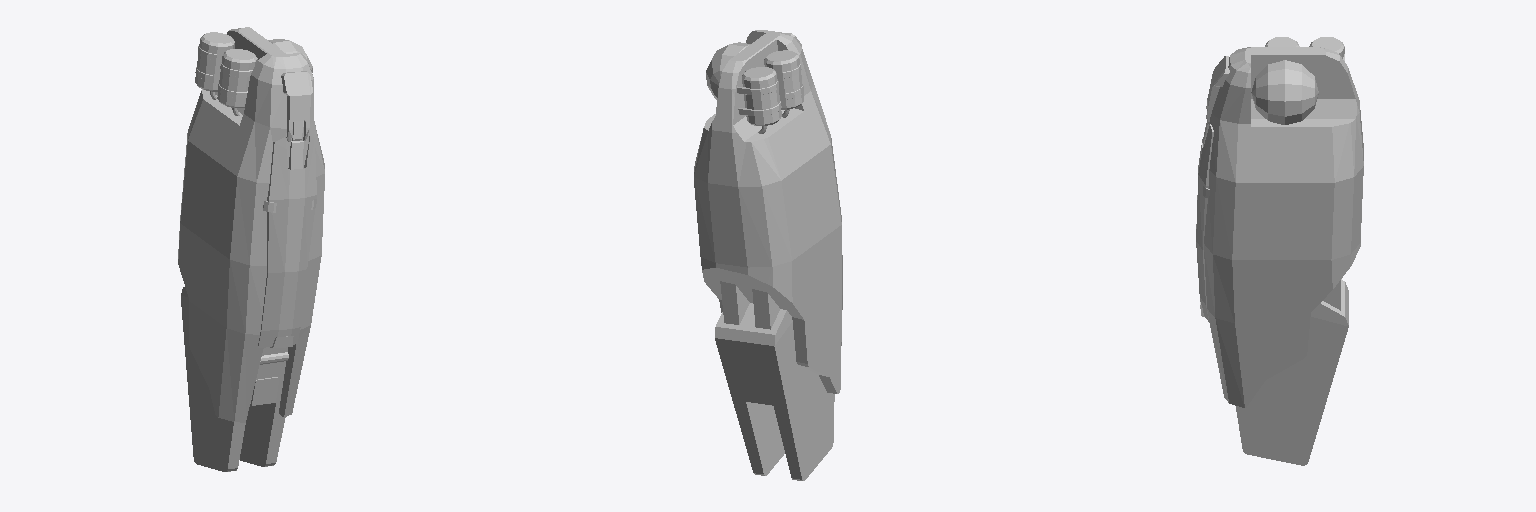
3 renders of one model, left to right at view 1: azimuth 30°, elevation 25°; view 2: azimuth 150°, elevation 25°; view 3: azimuth 270°, elevation 25°, orthographic.
Parts seen in each view (by area): view 1: T2 T2 legs polySurface48, T2 T2 legs polySurface25, polySurface31 T2 T2 legs, T2 T2 legs polySurface47, T2 T2 legs polySurface44, T2 T2 legs polySurface4, T2 T2 legs polySurface46; view 2: T2 T2 legs polySurface48, polySurface31 T2 T2 legs, T2 T2 legs polySurface4, T2 T2 legs polySurface44, T2 T2 legs polySurface43, T2 T2 legs polySurface50, T2 T2 legs polySurface42; view 3: T2 T2 legs polySurface48, polySurface31 T2 T2 legs, T2 T2 legs polySurface50, T2 T2 legs polySurface25, T2 T2 legs polySurface47.
Boxes of the visible parts, box(x1,y1,x2,y2) form: T2 T2 legs polySurface48: box(178, 27, 324, 422); T2 T2 legs polySurface25: box(258, 136, 316, 347); polySurface31 T2 T2 legs: box(181, 287, 287, 471); T2 T2 legs polySurface47: box(281, 71, 312, 141); T2 T2 legs polySurface44: box(217, 49, 257, 107); T2 T2 legs polySurface4: box(195, 32, 234, 91); T2 T2 legs polySurface46: box(250, 377, 279, 405); T2 T2 legs polySurface48: box(694, 30, 842, 393); polySurface31 T2 T2 legs: box(715, 303, 834, 480); T2 T2 legs polySurface4: box(742, 67, 781, 125); T2 T2 legs polySurface44: box(764, 50, 803, 109); T2 T2 legs polySurface43: box(720, 281, 749, 324); T2 T2 legs polySurface50: box(706, 42, 750, 99); T2 T2 legs polySurface42: box(752, 289, 779, 329); T2 T2 legs polySurface48: box(1204, 47, 1363, 407); polySurface31 T2 T2 legs: box(1236, 279, 1348, 465); T2 T2 legs polySurface50: box(1251, 60, 1318, 124); T2 T2 legs polySurface25: box(1196, 124, 1213, 321); T2 T2 legs polySurface47: box(1206, 56, 1229, 124).
Bounding box in the file's own units: 15.1 × 55.07 × 19.95.